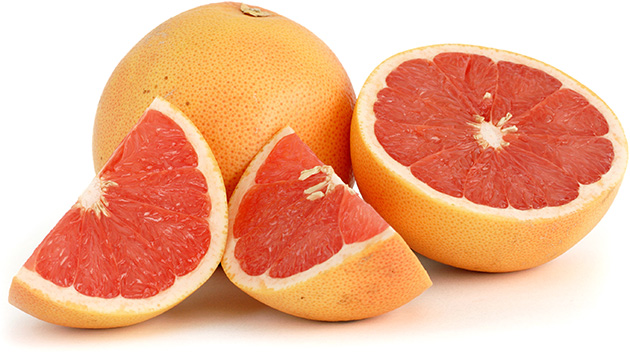grapefruit: (364, 44, 619, 263), (101, 6, 363, 194), (45, 108, 212, 309), (225, 129, 390, 315)
